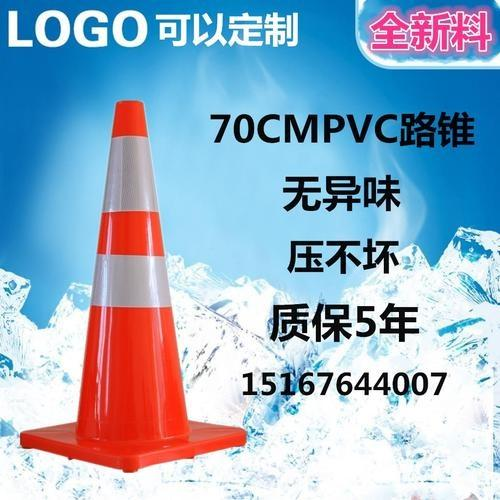cone_barrel: (62, 98, 200, 466)
